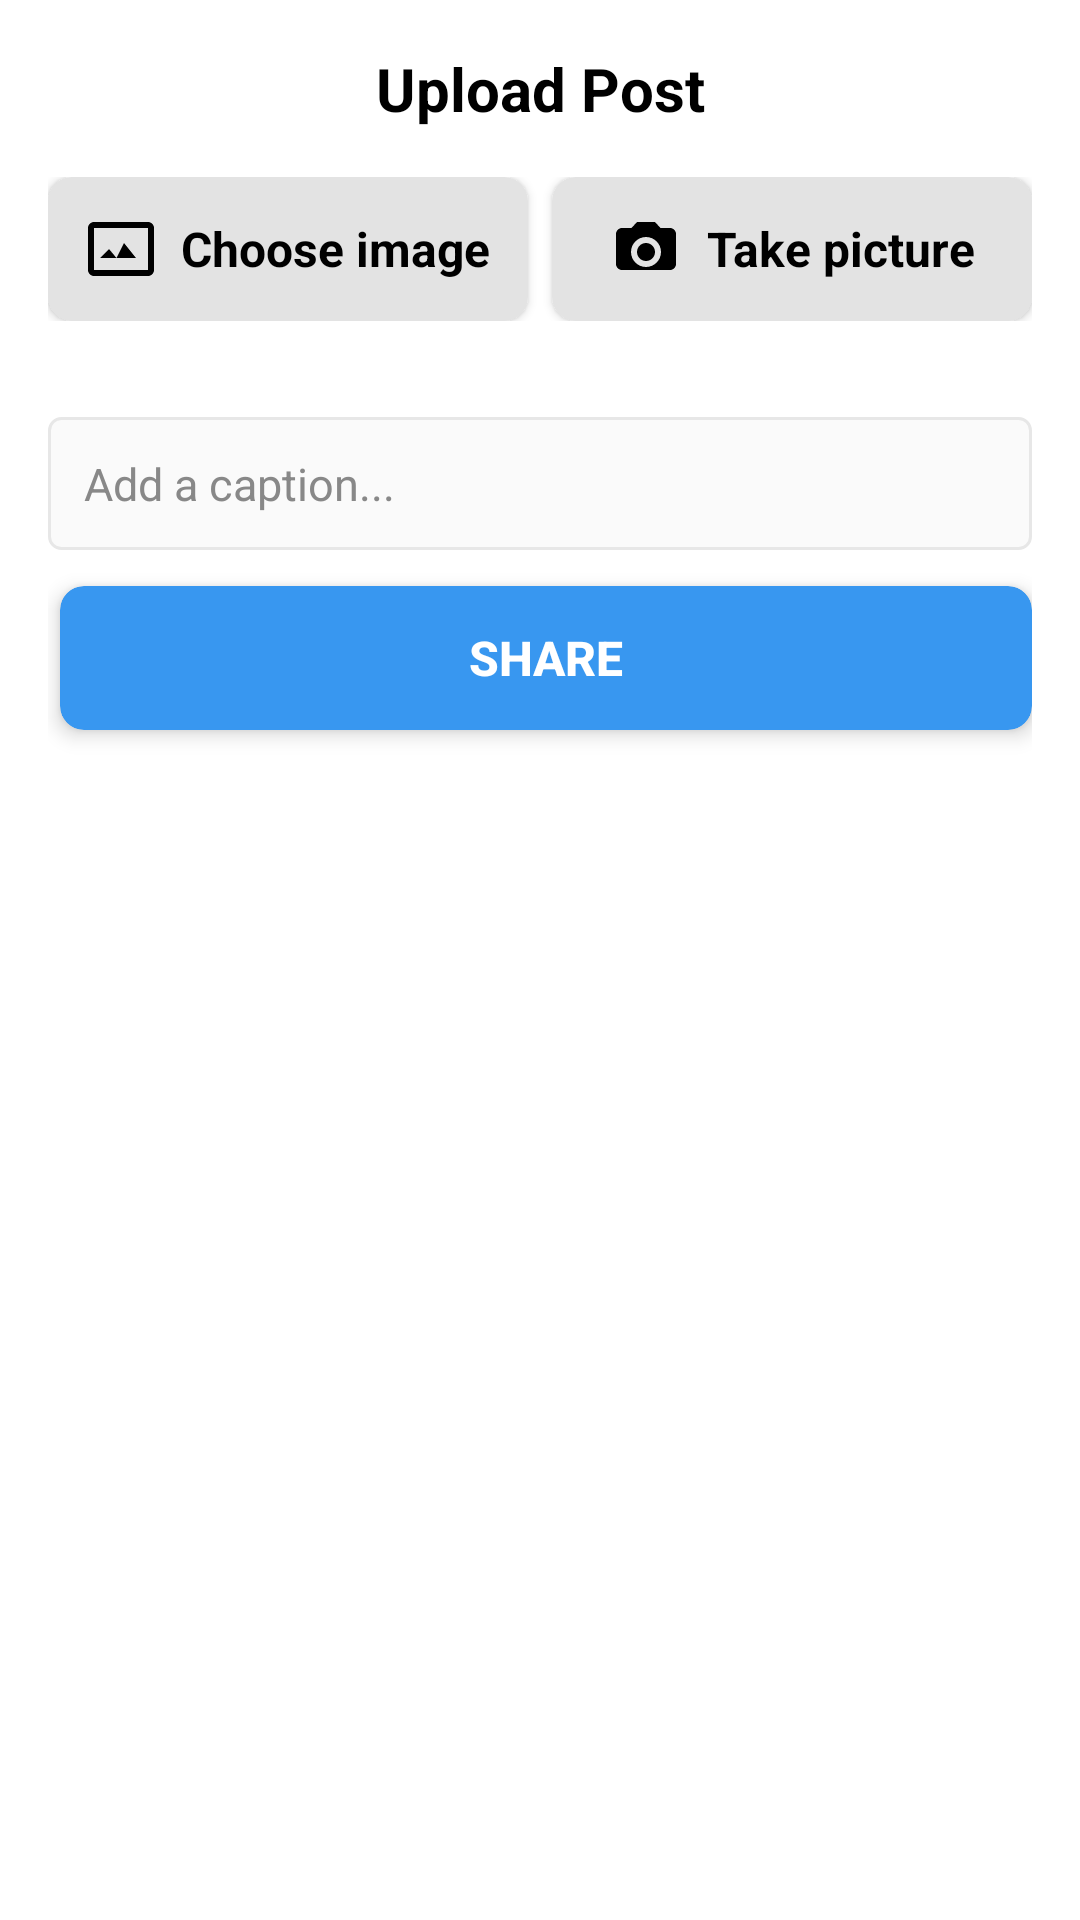

Where to tap for icons on this 1080*1920 app screen, as (x,y):
camera: (646,246)
gallery: (121,249)
